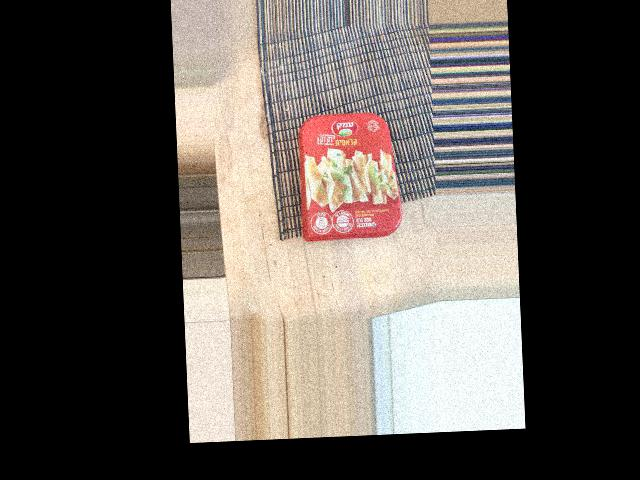cheese: (293, 62, 428, 156)
